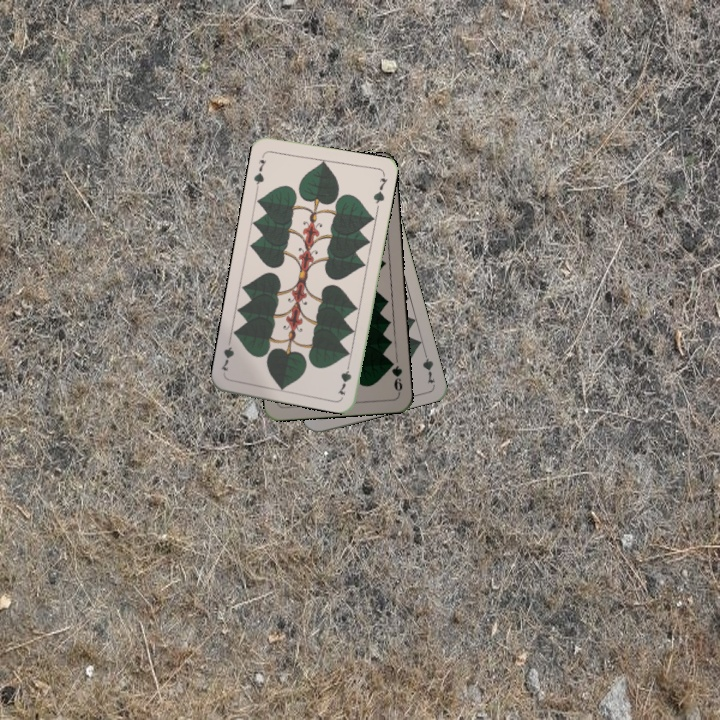G7: (334, 357, 354, 398), (250, 150, 269, 191), (418, 346, 437, 386)
G9: (385, 356, 405, 396)
